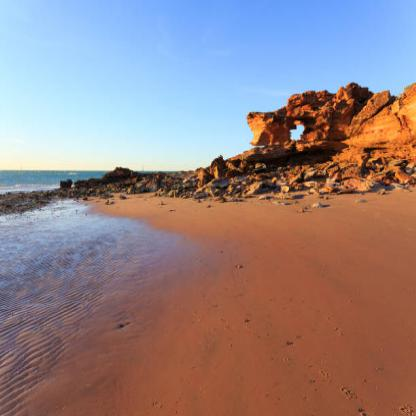Sedimentary_Sandstone: (245, 79, 372, 154)
